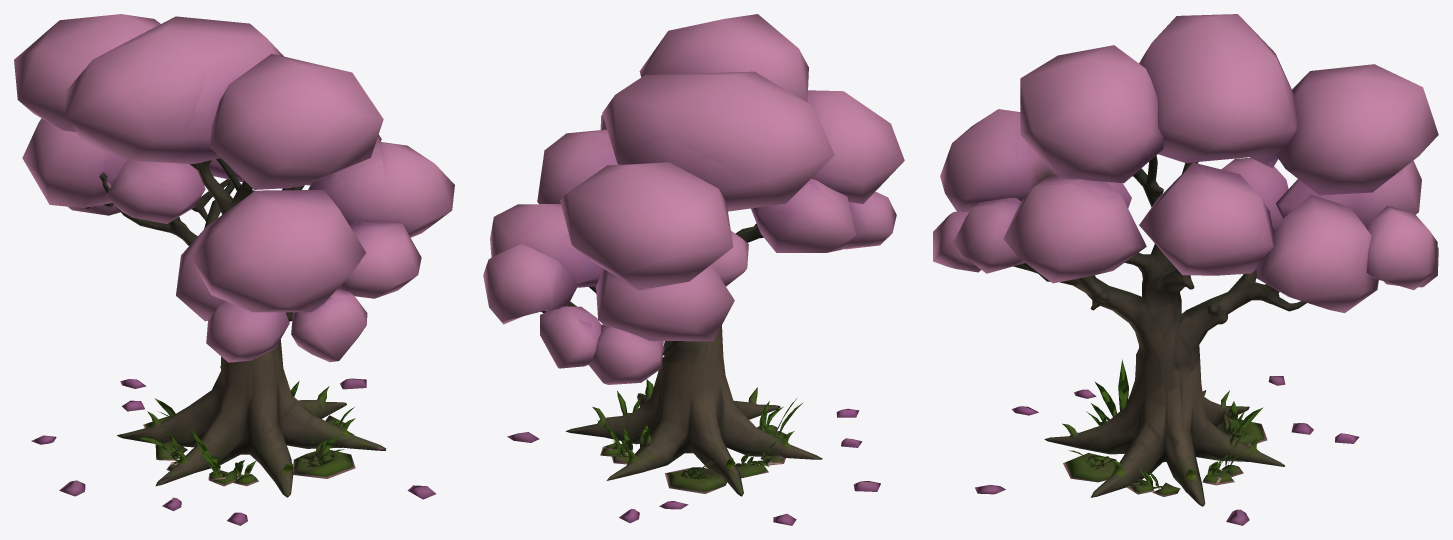
File: SM_Vegetation_PinkBlossomTree_01.fbx
The picture shows the model from 3 angles, left to right: view 1: azimuth 30°, elevation 25°; view 2: azimuth 150°, elevation 25°; view 3: azimuth 270°, elevation 25°; orthographic projection. The views are drawn at different scales.
Visible parts, largest first — view 1: SM_Vegetation_PinkBlossomTree_01; view 2: SM_Vegetation_PinkBlossomTree_01; view 3: SM_Vegetation_PinkBlossomTree_01.
Boxes of the visible parts, x1,y1,x2,y2 form: SM_Vegetation_PinkBlossomTree_01: (14,14,454,525); SM_Vegetation_PinkBlossomTree_01: (483,14,904,525); SM_Vegetation_PinkBlossomTree_01: (933,14,1438,525).
Bounding box in the file's own units: 0.7676 × 0.8848 × 0.998.
1 material, 1 textured.
